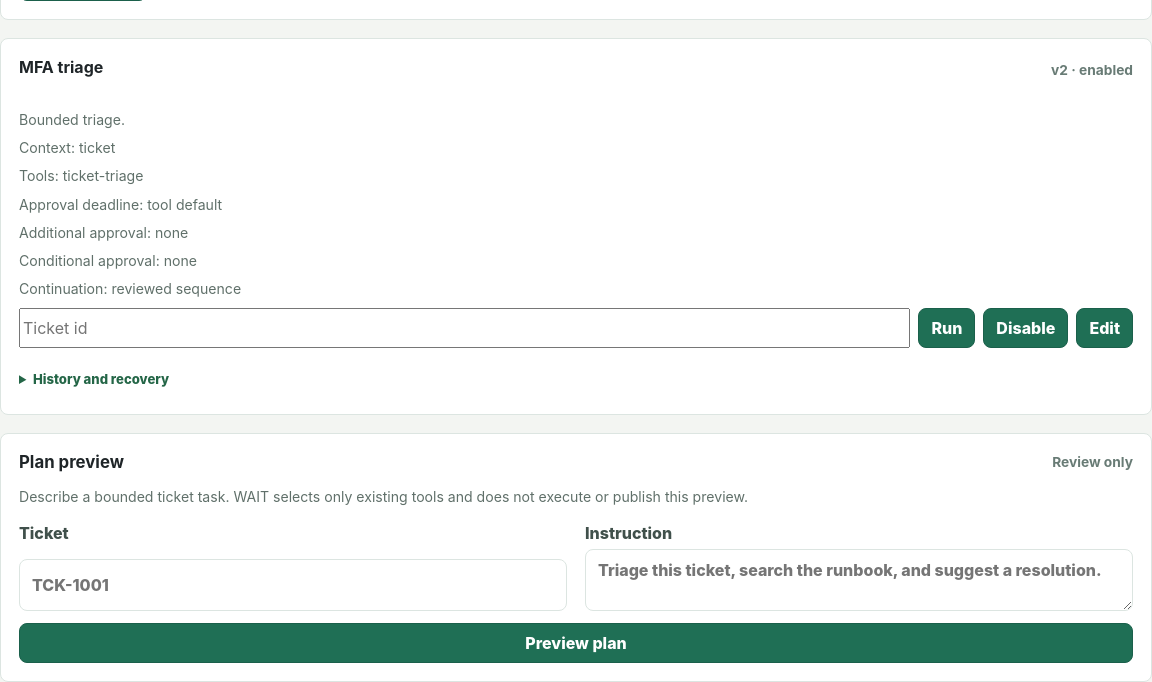
Test: Agents › edits an existing agent into a new revision
The image size is (1152, 682).
(page scrolled)
Click the button "Edit".
click(1105, 328)  # box [1076,308,1133,348]
(page scrolled)
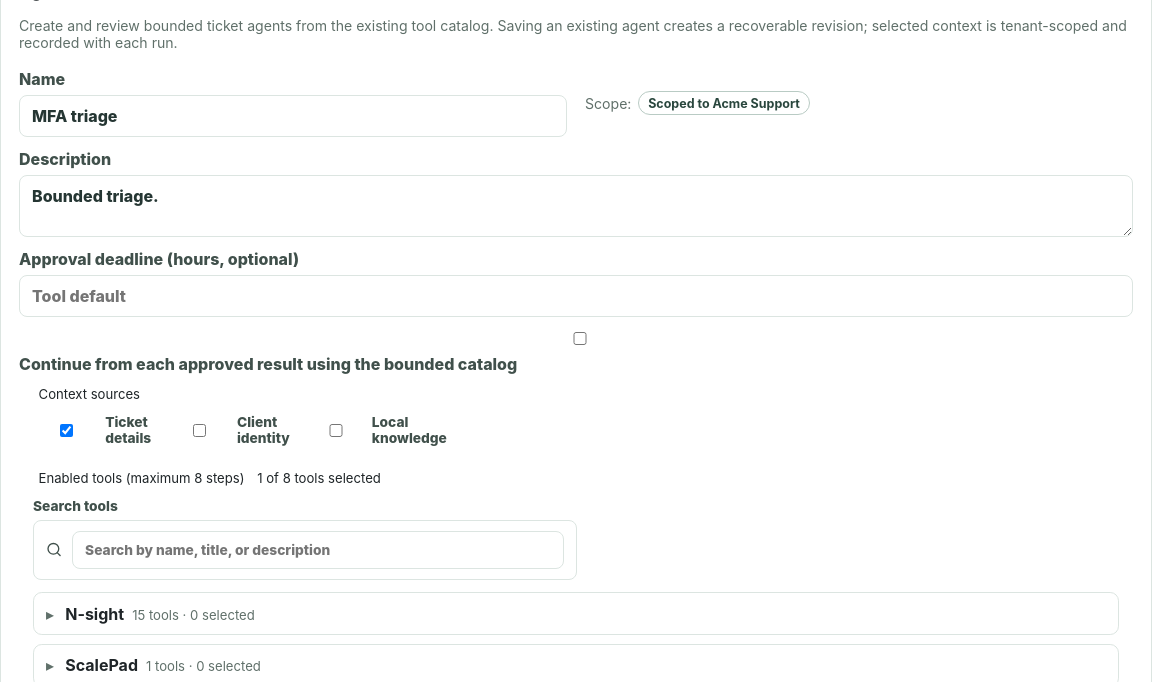
Replace the text in the text box labelled "Description" with "Updated bounded triage." at (576, 206), box [19,175,1133,237]
(page scrolled)
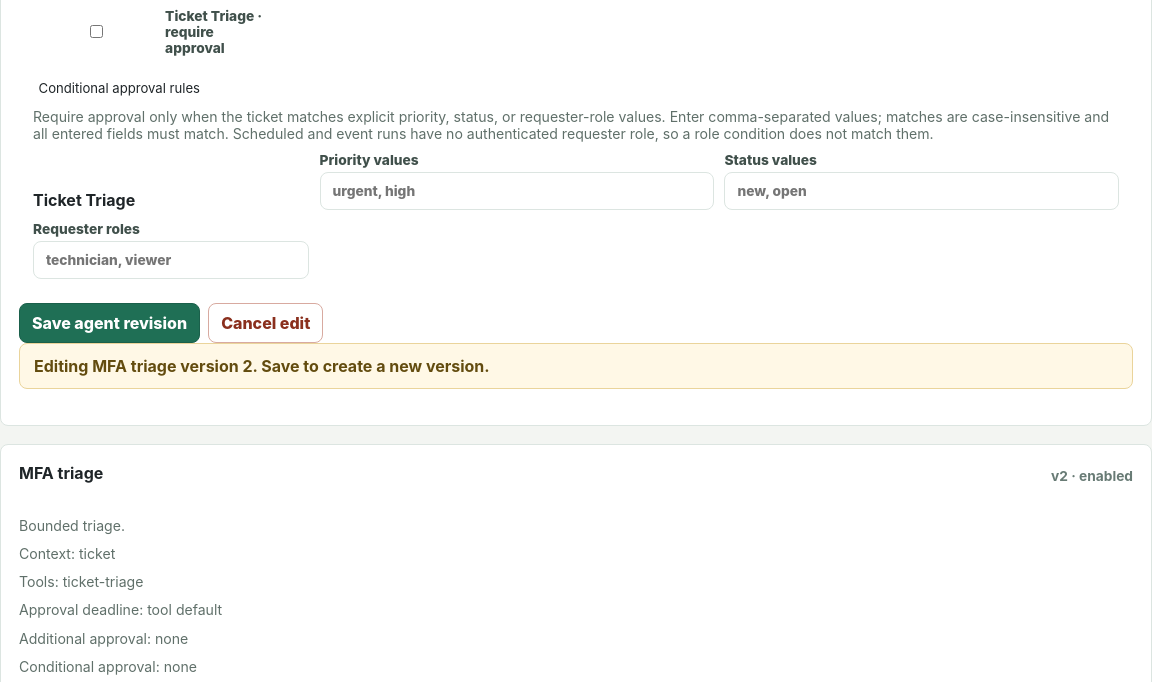
Click the button "Save agent revision".
click(110, 323)  # box [19,303,200,343]
(page scrolled)
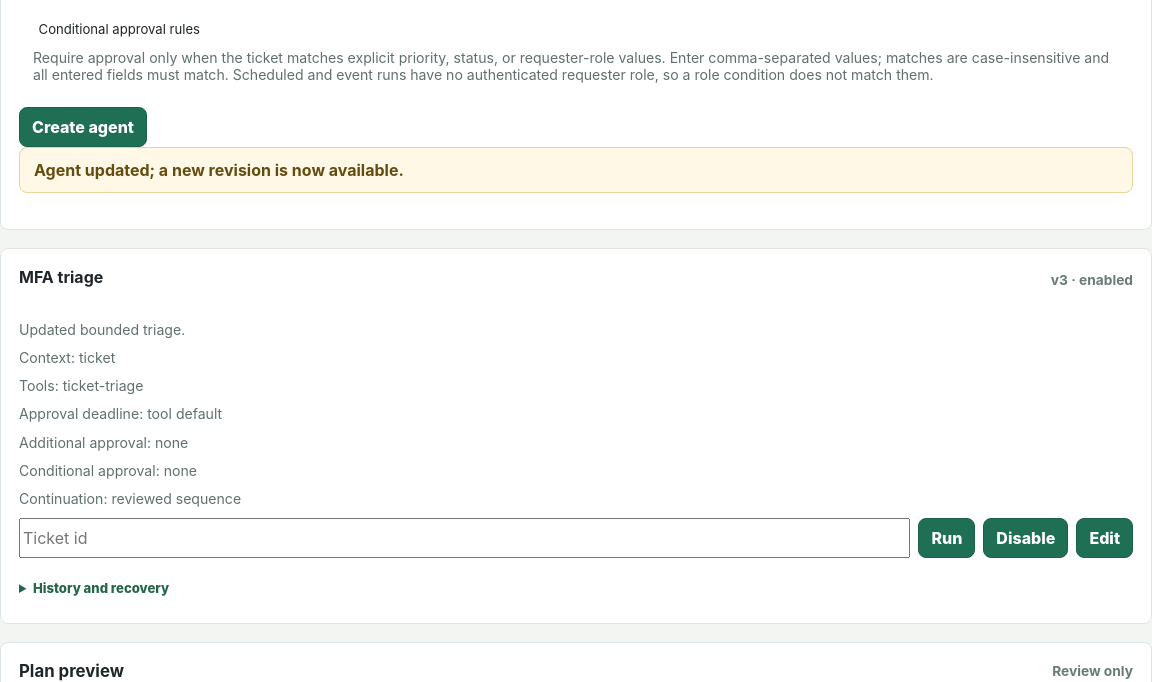
Expected: the text "Agent updated; a new revision is now available." is shown, [19,147,1133,193]
